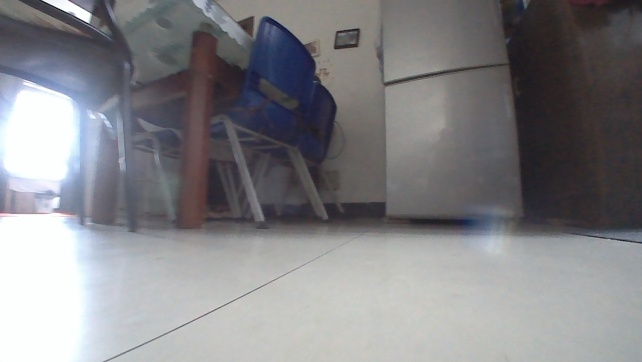dining_table: (0, 0, 349, 230)
refrigerator: (376, 0, 529, 227)
